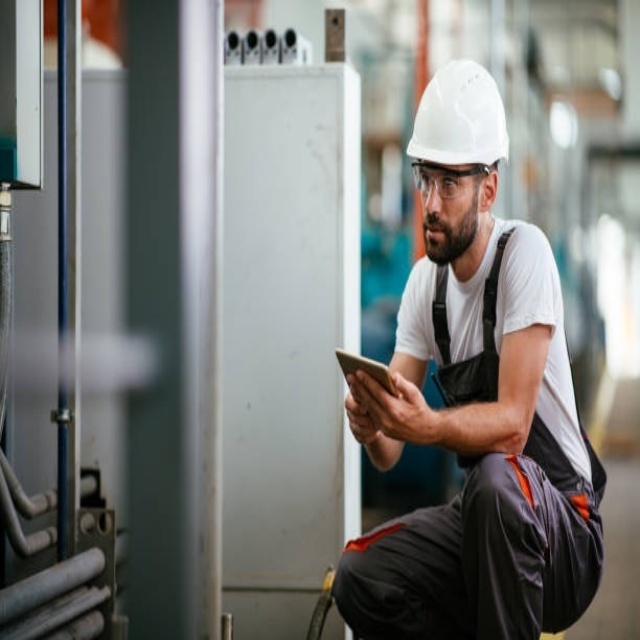Gafas: (411, 163, 489, 200)
Sin_guantes: (353, 358, 430, 445), (343, 373, 394, 448)
Sin_mascara: (421, 215, 454, 256)
